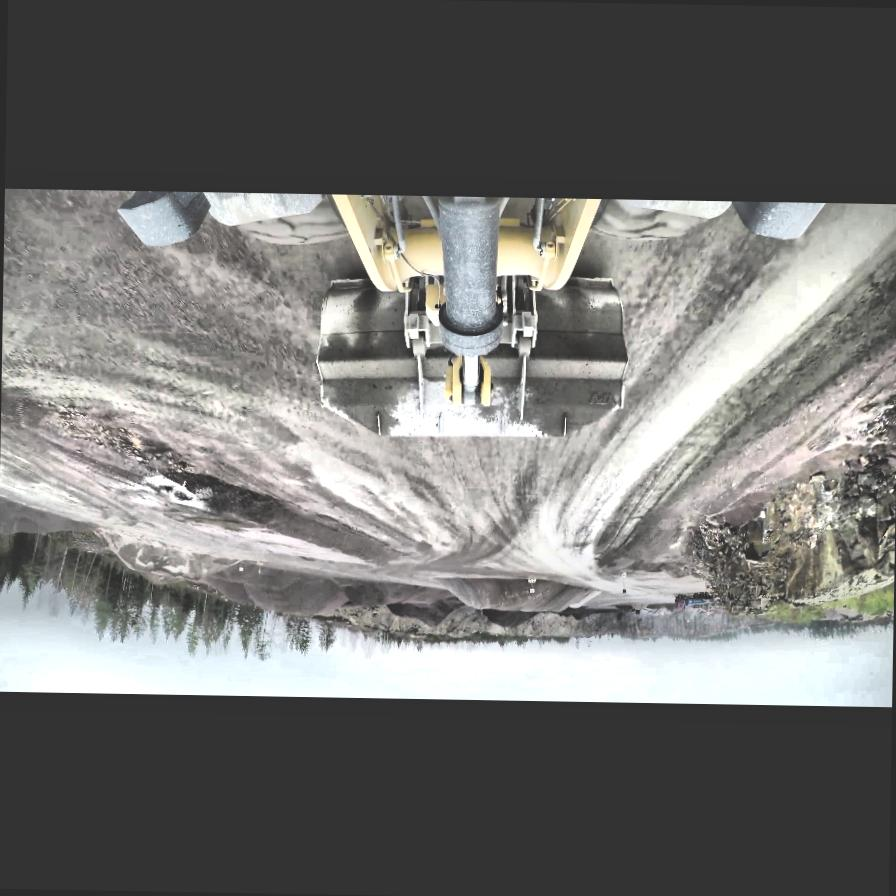anchor: (446, 354, 494, 407)
pile of gravel: (100, 530, 246, 586), (227, 569, 356, 620), (451, 576, 598, 616), (335, 578, 440, 612), (388, 600, 462, 629), (481, 608, 542, 630), (120, 568, 178, 586), (560, 606, 600, 622)
